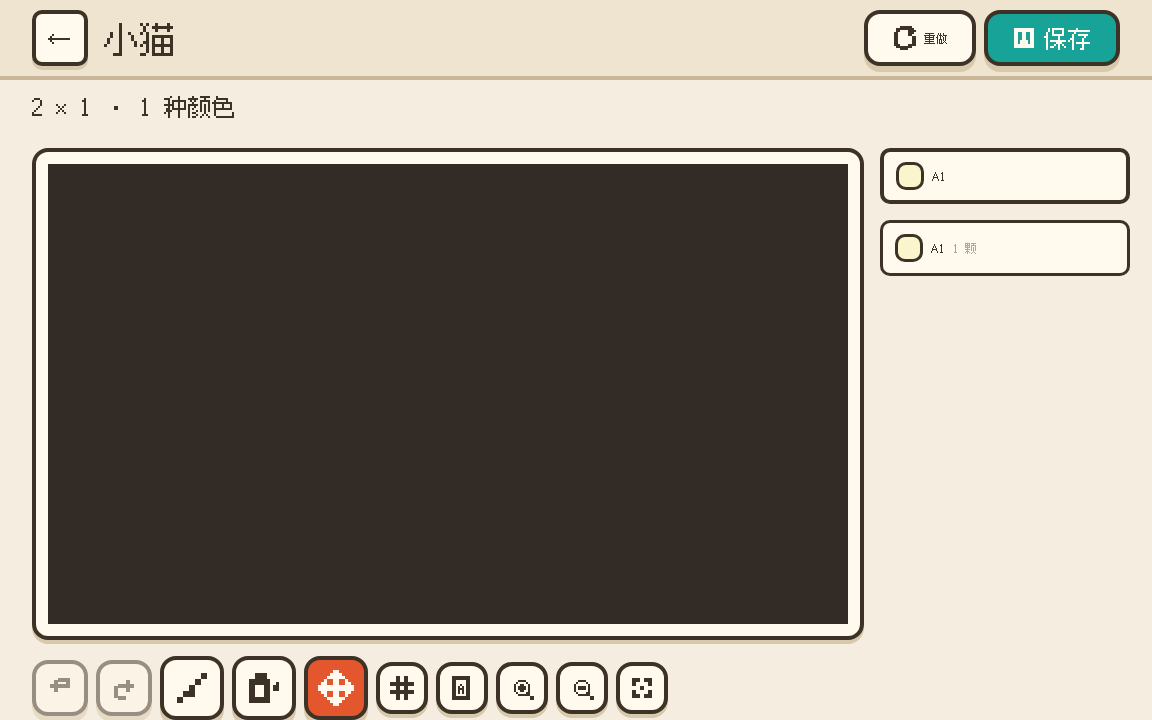
Test: 未保存离开的拦截 › 保存并离开时保存失败：不放行导航，改动留在内存里
Click the button with test id "tool-brush" at {"x": 192, "y": 688}, box x1=160 y1=656 x2=224 y2=719
(page scrolled)
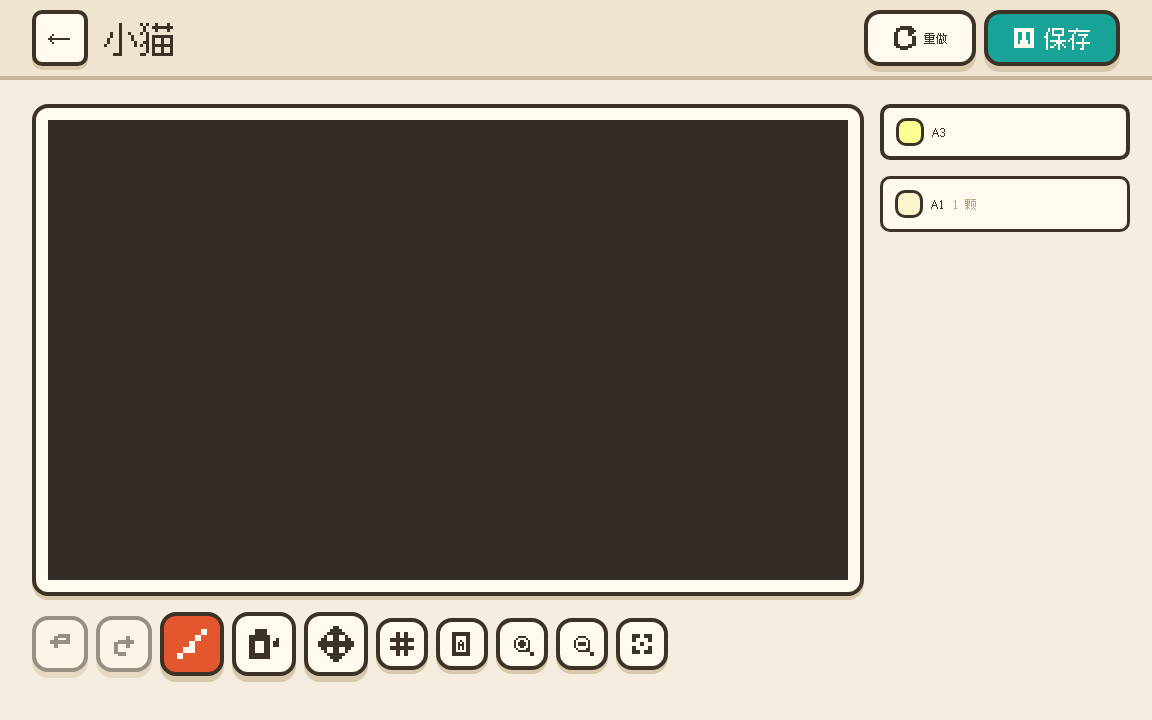
Press the mouse on the drawing with test id "editor-canvas" at {"x": 448, "y": 420}, box x1=48 y1=120 x2=848 y2=719
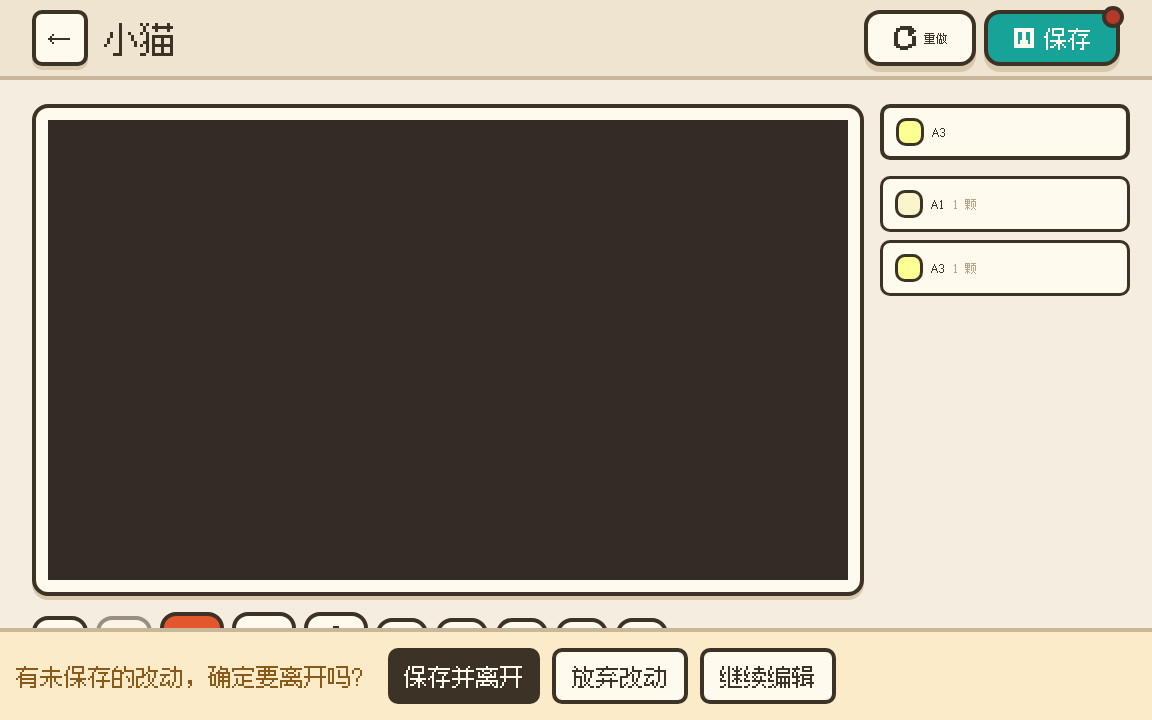
Click the button with test id "leave-save" at {"x": 464, "y": 676}, box x1=388 y1=648 x2=540 y2=704
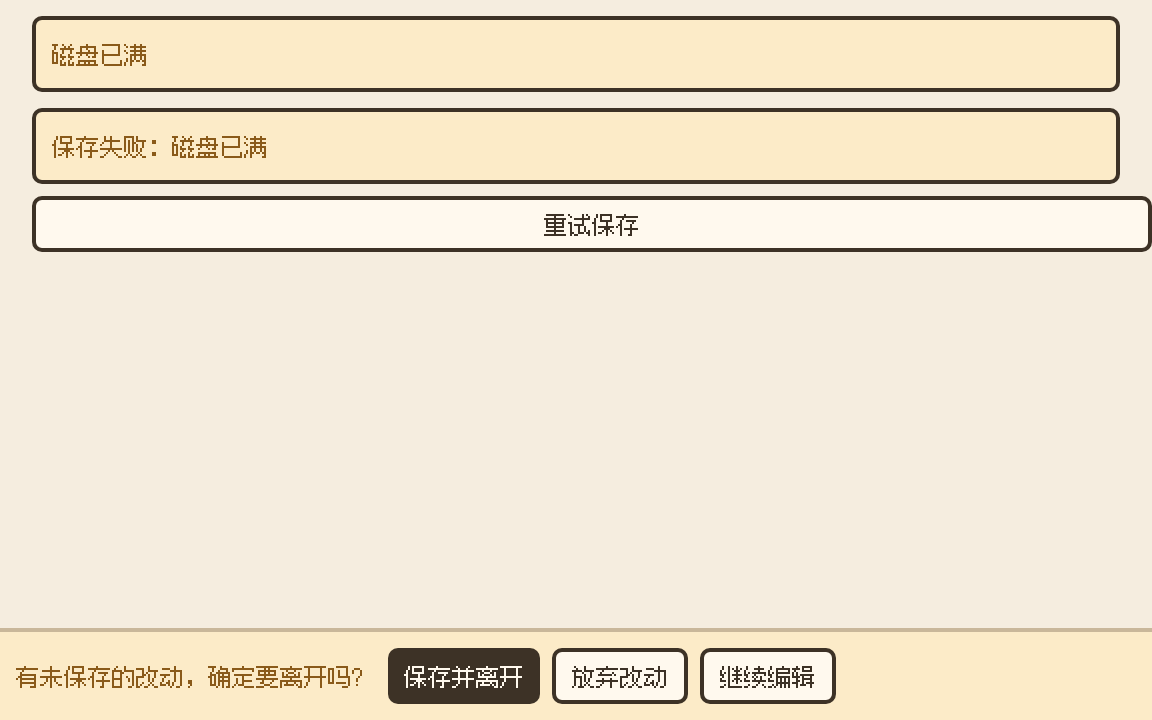
Expected: the element with test id "leave-bar" is shown, x1=0 y1=628 x2=1151 y2=719
Expected: the text with test id "save-error" shows "磁盘已满", x1=52 y1=130 x2=268 y2=162
